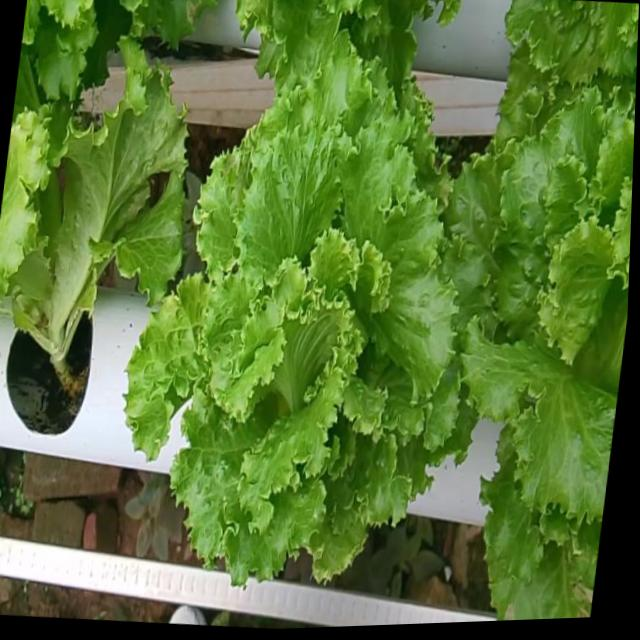Mature: (116, 69, 449, 606), (435, 101, 634, 547)
